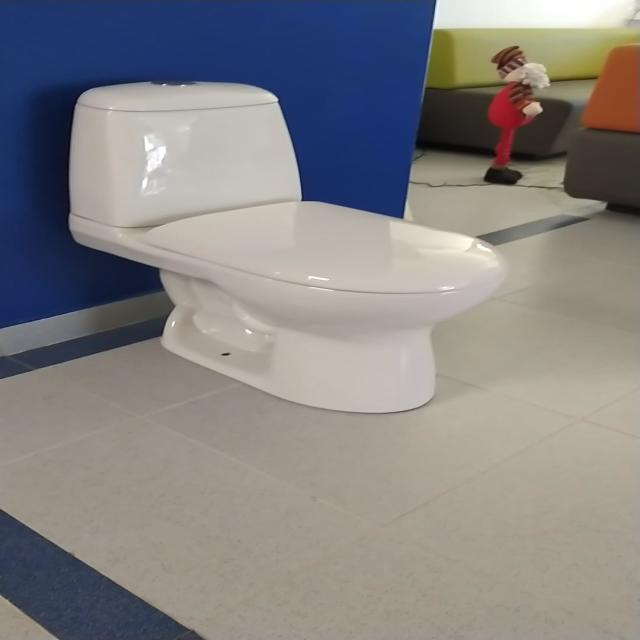toilet: (56, 72, 516, 418)
